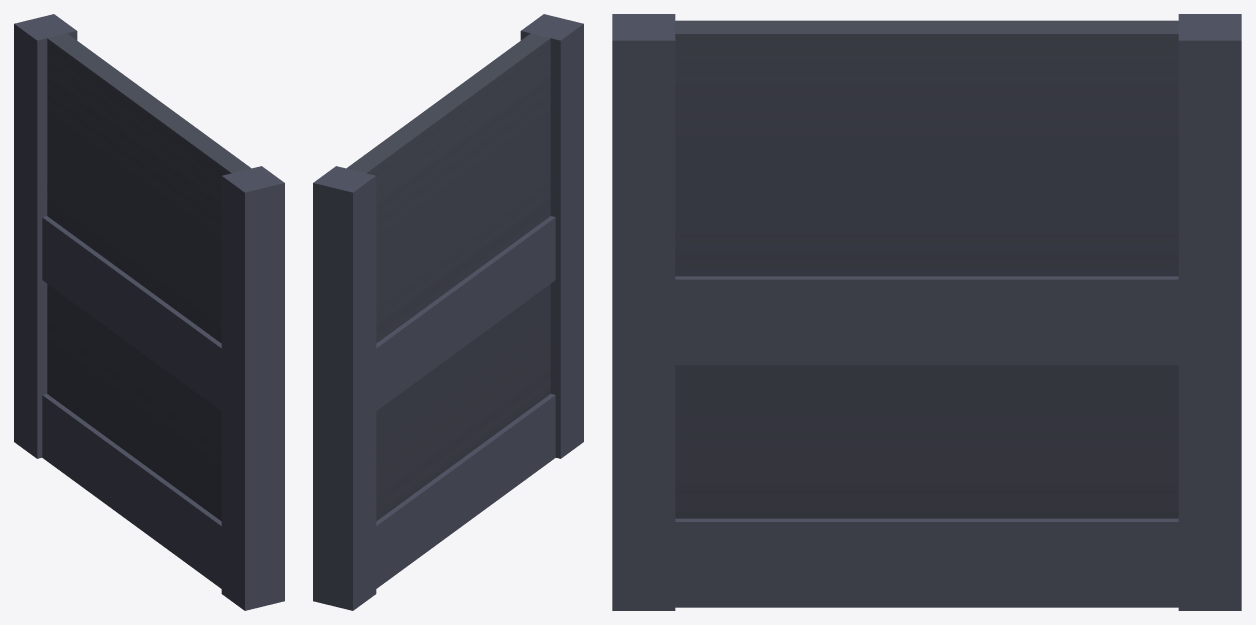
The model's file is wall-detail-horizontal.glb.
The picture shows the model from 3 angles, left to right: view 1: azimuth 30°, elevation 25°; view 2: azimuth 150°, elevation 25°; view 3: azimuth 270°, elevation 25°; orthographic projection. The views are drawn at different scales.
Parts seen in each view (by area): view 1: wall-detail-horizontal; view 2: wall-detail-horizontal; view 3: wall-detail-horizontal.
Part boxes in pixels (x1,y1,x2,y2): wall-detail-horizontal: [14, 14, 284, 610]; wall-detail-horizontal: [313, 14, 583, 610]; wall-detail-horizontal: [612, 14, 1241, 610].
Size of the model in its own units: 0.1 by 1 by 1.
1 material, 1 textured.
